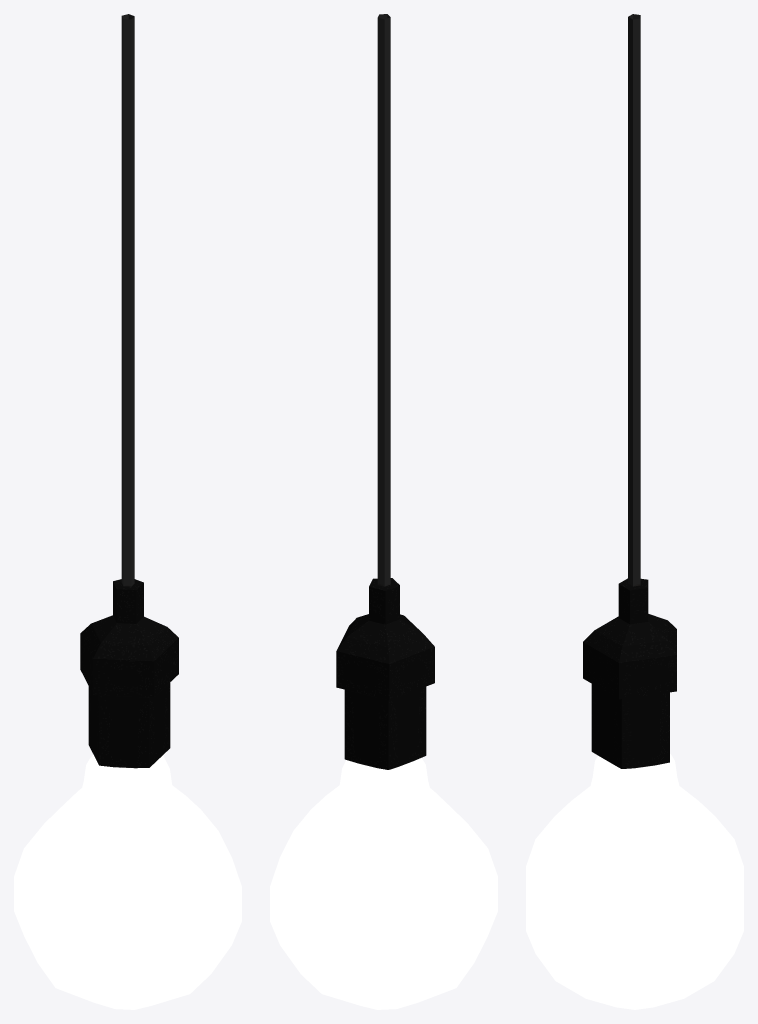
3 renders of one model, left to right at view 1: azimuth 30°, elevation 25°; view 2: azimuth 150°, elevation 25°; view 3: azimuth 270°, elevation 25°, orthographic.
Parts seen in each view (by area): view 1: pCylinder1_Mat_simple_ceiling_light_3dc_phong_0, polySurface2_Mat_simple_ceiling_light_3dc_phong_0; view 2: pCylinder1_Mat_simple_ceiling_light_3dc_phong_0, polySurface2_Mat_simple_ceiling_light_3dc_phong_0; view 3: pCylinder1_Mat_simple_ceiling_light_3dc_phong_0, polySurface2_Mat_simple_ceiling_light_3dc_phong_0.
Part boxes in pixels (x1=…): pCylinder1_Mat_simple_ceiling_light_3dc_phong_0: x1=14, y1=579, x2=241, y2=1009; polySurface2_Mat_simple_ceiling_light_3dc_phong_0: x1=121, y1=14, x2=134, y2=586; pCylinder1_Mat_simple_ceiling_light_3dc_phong_0: x1=270, y1=578, x2=497, y2=1009; polySurface2_Mat_simple_ceiling_light_3dc_phong_0: x1=377, y1=14, x2=390, y2=586; pCylinder1_Mat_simple_ceiling_light_3dc_phong_0: x1=526, y1=578, x2=743, y2=1009; polySurface2_Mat_simple_ceiling_light_3dc_phong_0: x1=628, y1=14, x2=640, y2=586.
Size of the model in its own units: 13.71 by 64.7 by 13.04.
1 material, 1 textured.
